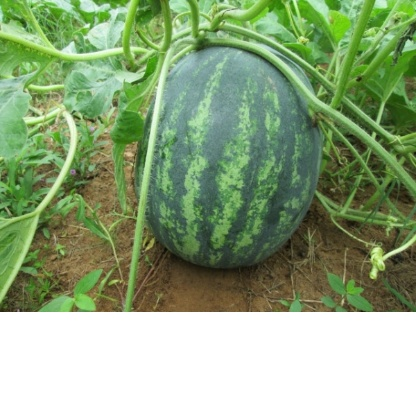duahau: (134, 43, 325, 261)
